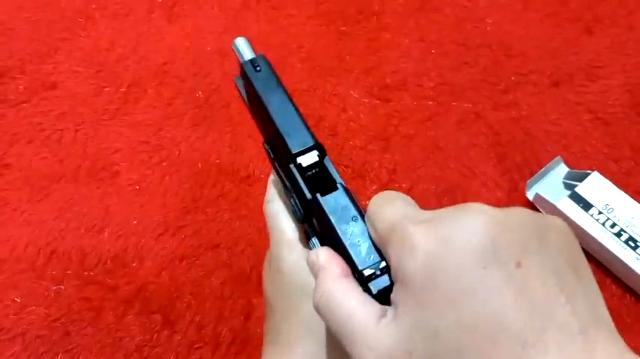pistol: (227, 30, 401, 312)
